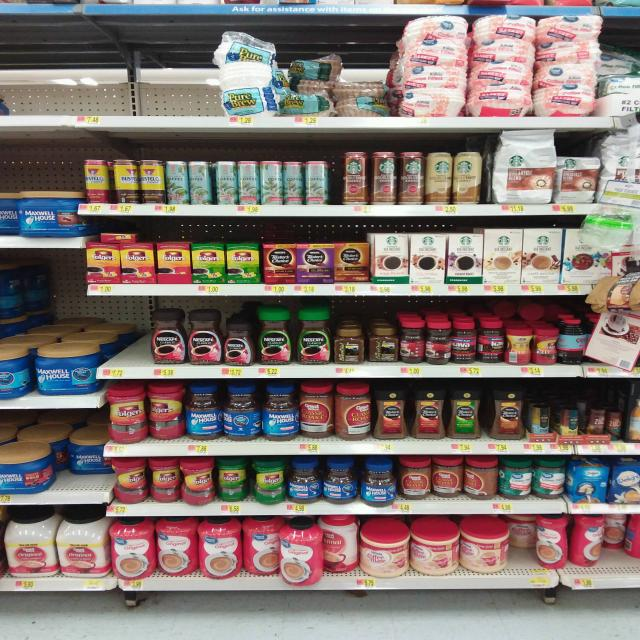empty: (104, 319, 153, 362)
